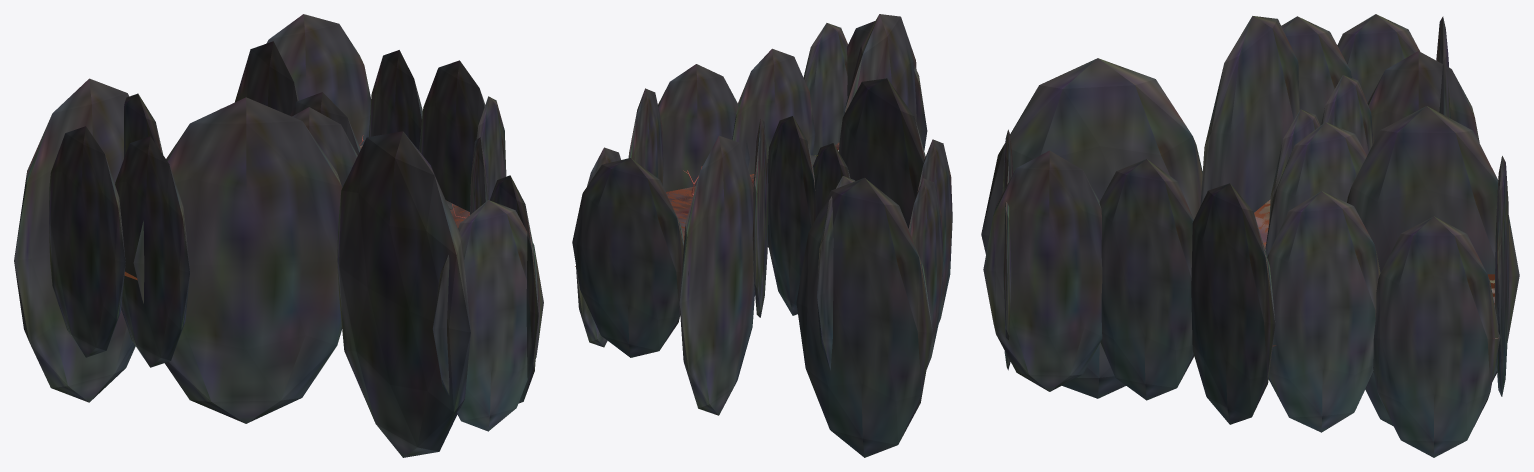
File: fse--graham.gltf
The picture shows the model from 3 angles, left to right: view 1: azimuth 30°, elevation 25°; view 2: azimuth 150°, elevation 25°; view 3: azimuth 270°, elevation 25°; orthographic projection. The views are drawn at different scales.
Parts seen in each view (by area): view 1: Icosphere.006, Icosphere.007, Icosphere.013, Icosphere.011, Icosphere.004, Icosphere.016, Icosphere, Icosphere.009, Icosphere.005, Icosphere.012, Icosphere.010, Icosphere.001 (+4 smaller); view 2: Icosphere.013, Icosphere, Icosphere.012, Icosphere.006, Icosphere.001, Icosphere.008, Icosphere.003, Icosphere.010, Icosphere.007, Icosphere.004, Icosphere.002, Icosphere.015 (+7 smaller); view 3: Icosphere.005, Icosphere.010, Icosphere.009, Icosphere.003, Icosphere.007, Icosphere.012, Icosphere.008, Icosphere.006, Icosphere.002, Icosphere.015, Icosphere.016, Icosphere.004 (+5 smaller).
Boxes of the visible parts, x1,y1,x2,y2 form: Icosphere.006: (133, 97, 342, 423); Icosphere.007: (337, 131, 470, 457); Icosphere.013: (14, 78, 135, 402); Icosphere.011: (432, 200, 543, 431); Icosphere.004: (49, 126, 125, 357); Icosphere.016: (115, 136, 189, 367); Icosphere: (266, 14, 371, 145); Icosphere.009: (419, 60, 485, 211); Icosphere.005: (369, 50, 422, 150); Icosphere.012: (234, 41, 298, 115); Icosphere.010: (490, 175, 538, 403); Icosphere.001: (292, 107, 357, 187); Icosphere.013: (796, 178, 932, 457); Icosphere: (572, 158, 688, 357); Icosphere.012: (679, 135, 754, 415); Icosphere.006: (838, 78, 925, 228); Icosphere.001: (767, 116, 815, 315); Icosphere.008: (658, 64, 749, 191); Icosphere.003: (732, 48, 815, 247); Icosphere.010: (803, 23, 847, 156); Icosphere.007: (844, 14, 916, 122); Icosphere.004: (908, 178, 943, 368); Icosphere.002: (752, 118, 768, 317); Icosphere.015: (817, 176, 854, 370); Icosphere.005: (1373, 216, 1500, 457); Icosphere.010: (983, 150, 1102, 391); Icosphere.009: (1267, 191, 1380, 432); Icosphere.003: (1099, 159, 1194, 400); Icosphere.007: (981, 58, 1202, 398); Icosphere.012: (1347, 106, 1519, 426); Icosphere.008: (1191, 183, 1275, 424); Icosphere.006: (1200, 16, 1299, 212); Icosphere.002: (1265, 122, 1366, 256); Icosphere.015: (1367, 51, 1479, 142); Icosphere.016: (1281, 16, 1352, 125); Icosphere.004: (1337, 14, 1420, 102).
Size of the model in its own units: 143 by 117 by 154.
4 materials, 1 textured.
